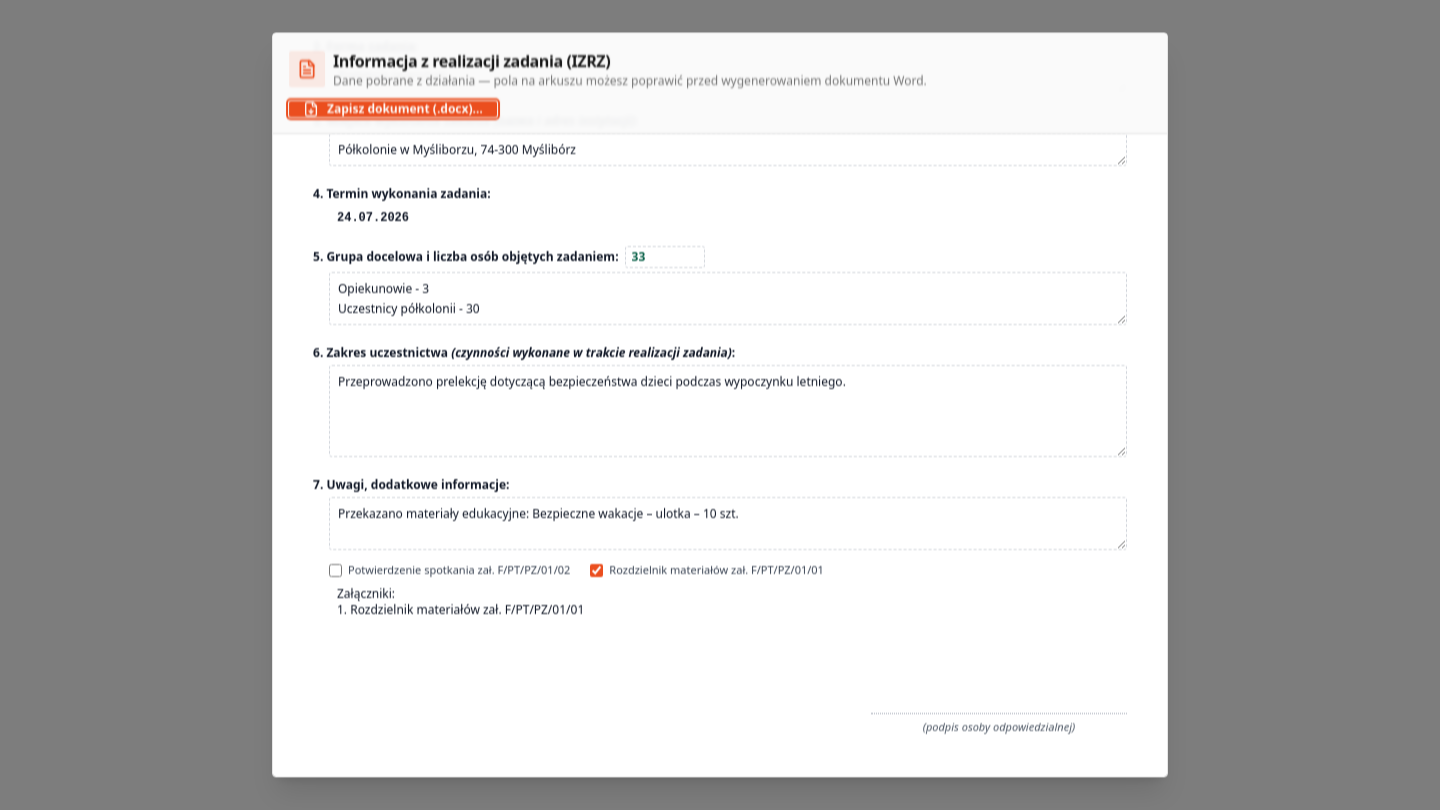
IzrzDocumentDialog › lets the user edit the sheet and restore the data from the action
The image size is (1440, 810).
(page scrolled)
Clear the text box named "Zakres czynności": (728, 412) left=329, top=366, right=1127, bottom=458
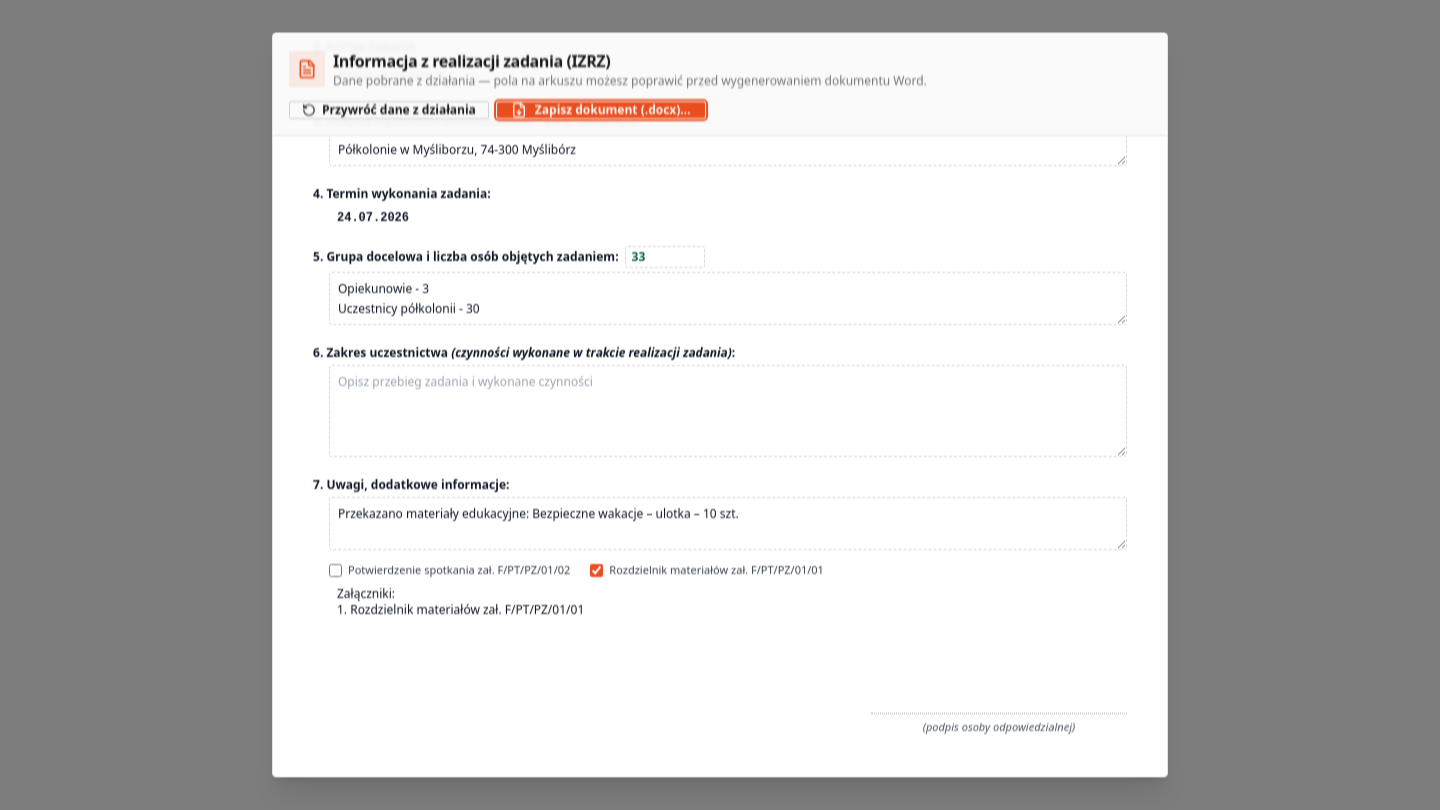
Click the button "Przywróć dane z działania": (389, 110) left=289, top=101, right=489, bottom=119
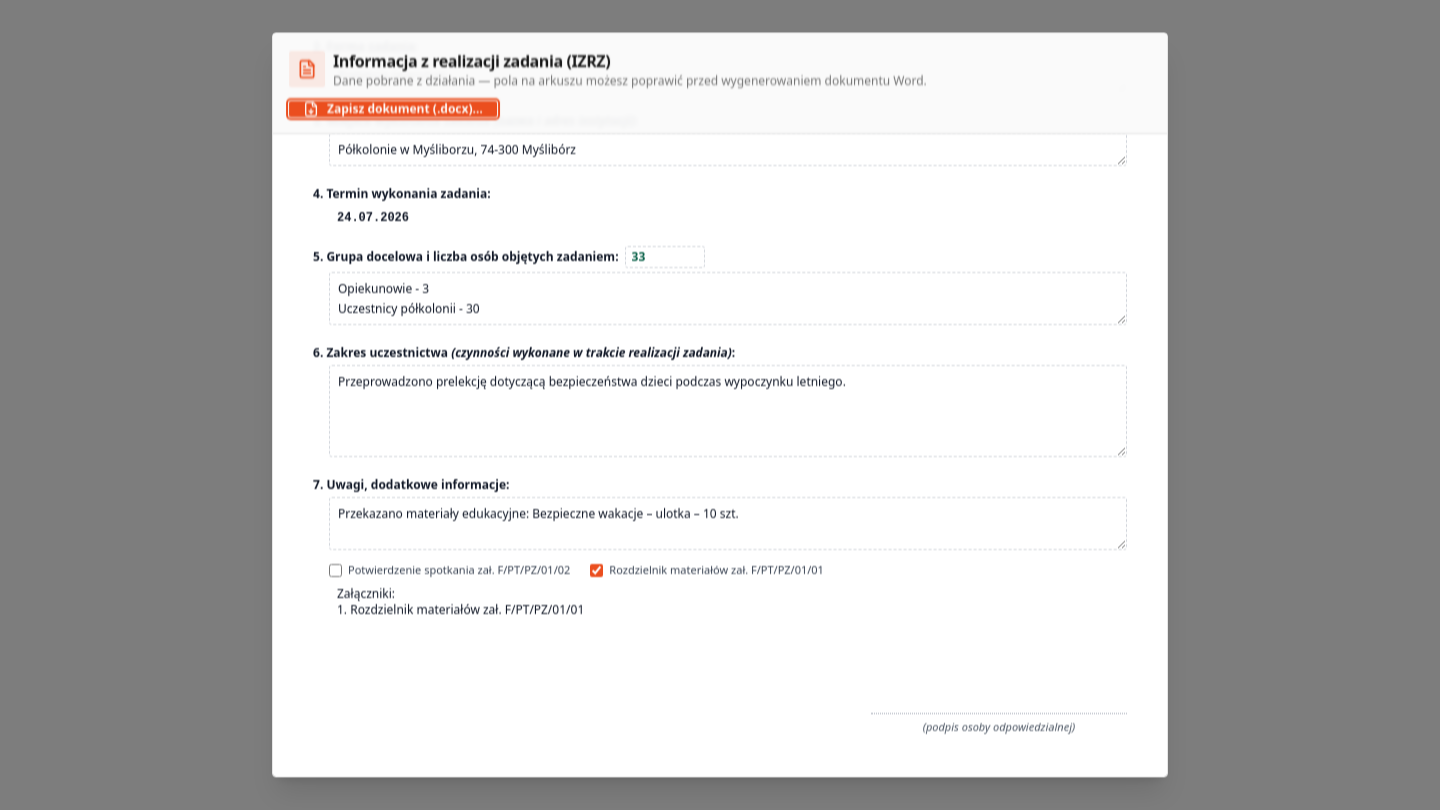
Now the button "Przywróć dane z działania" is gone
